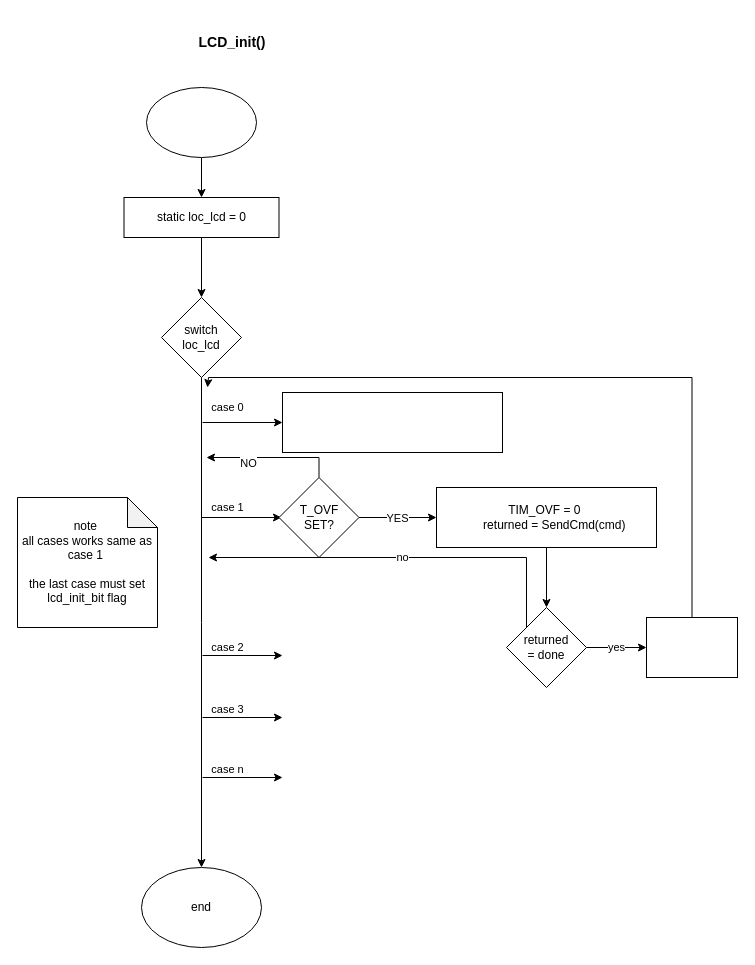
This 755x965 diagram has some shape labels left out. The box of each missing label's shape, as (x1, y1, x2, y2) in pixels:
initilize lcd_dir as output startasync( 20 ms ) loc_lcd++;: (282, 392, 502, 452)
loc_lcd++: (646, 616, 738, 678)
start: (146, 86, 256, 158)
